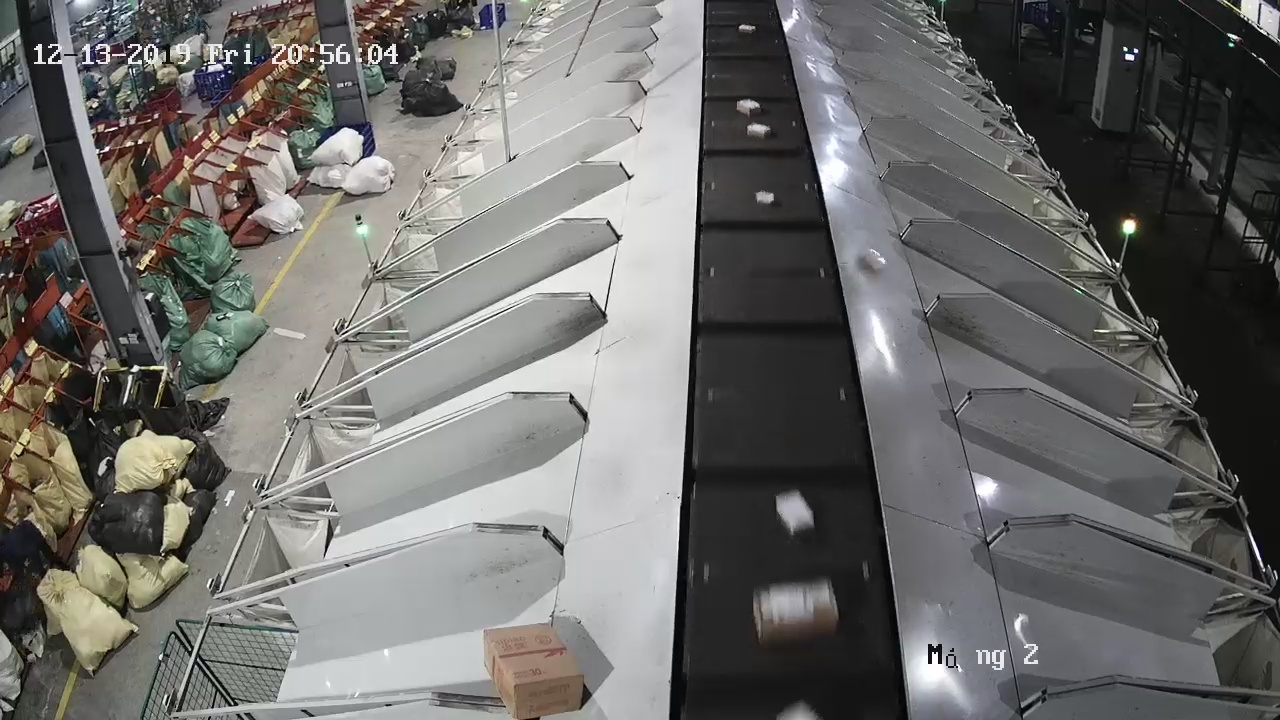parcel: (864, 248, 886, 272)
